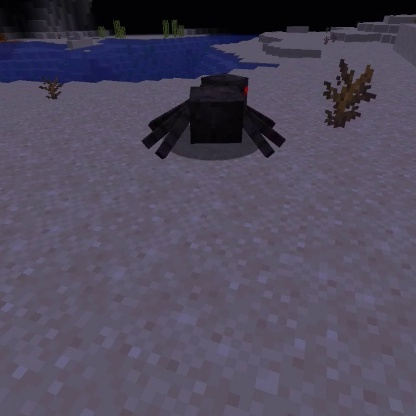spider: (138, 70, 288, 162)
